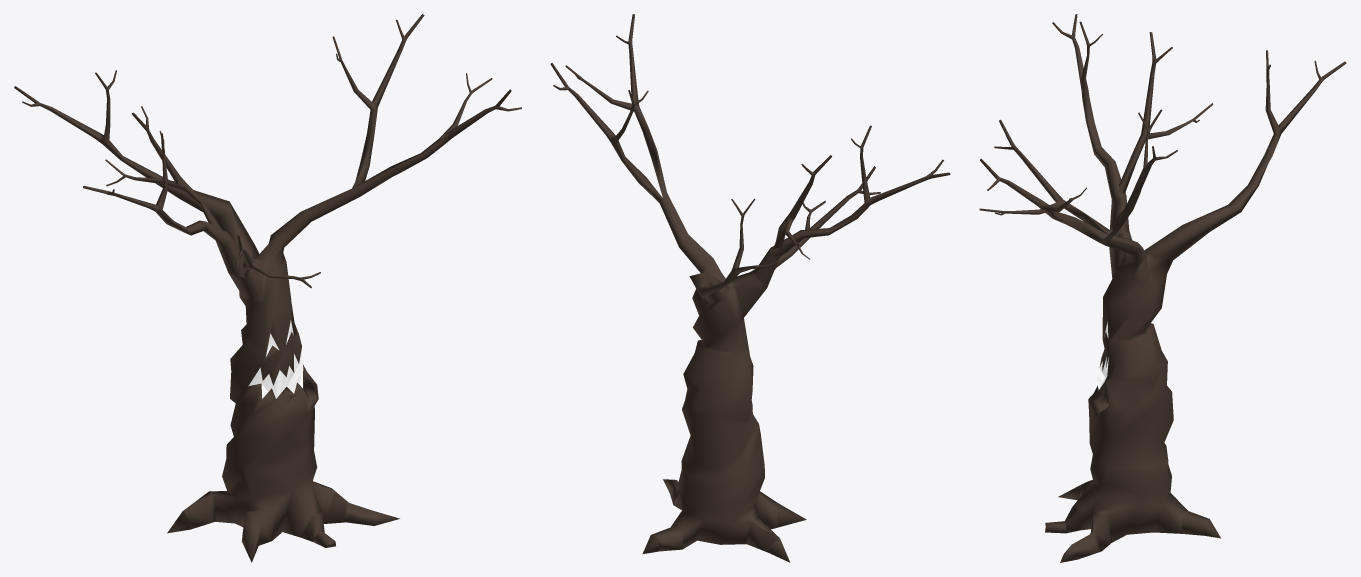
File: df264106-b053-4e89-8730-33aced7214a1.glb
The picture shows the model from 3 angles, left to right: view 1: azimuth 30°, elevation 25°; view 2: azimuth 150°, elevation 25°; view 3: azimuth 270°, elevation 25°; orthographic projection. The views are drawn at different scales.
Visible parts, largest first — view 1: SpookyTree09; view 2: SpookyTree09; view 3: SpookyTree09.
Part boxes in pixels (left/top/right/bottom): SpookyTree09: left=14, top=14, right=521, bottom=562; SpookyTree09: left=550, top=14, right=950, bottom=562; SpookyTree09: left=979, top=14, right=1346, bottom=562.
Size of what is drawn, in the model's own units: 6.06 by 6.56 by 4.77.
2 materials, 2 textured.
